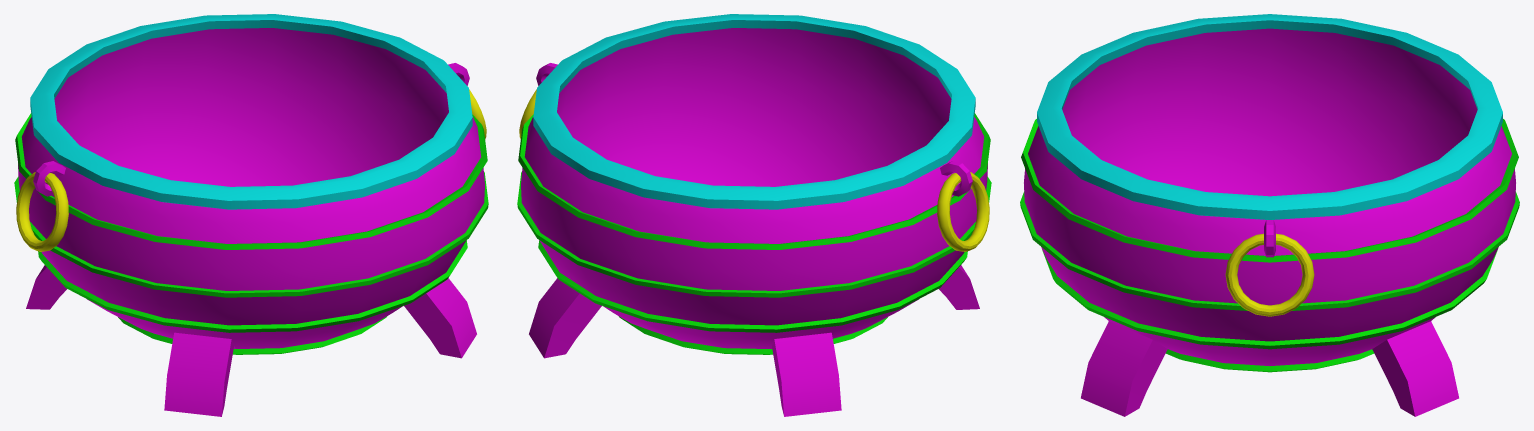
Rendered from cauldron.fbx.
3 views of the same model, side by side, from view 1: azimuth 30°, elevation 25°; view 2: azimuth 150°, elevation 25°; view 3: azimuth 270°, elevation 25° (orthographic). The views are drawn at different scales.
Parts seen in each view (by area): view 1: Cauldron; view 2: Cauldron; view 3: Cauldron.
Part boxes in pixels (x1,y1,x2,y2): Cauldron: (14, 14, 488, 416); Cauldron: (517, 14, 991, 416); Cauldron: (1020, 14, 1519, 416).
Size of the model in its own units: 481 by 225 by 446.
